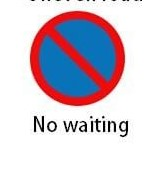Traffic signal: (27, 9, 125, 107)
